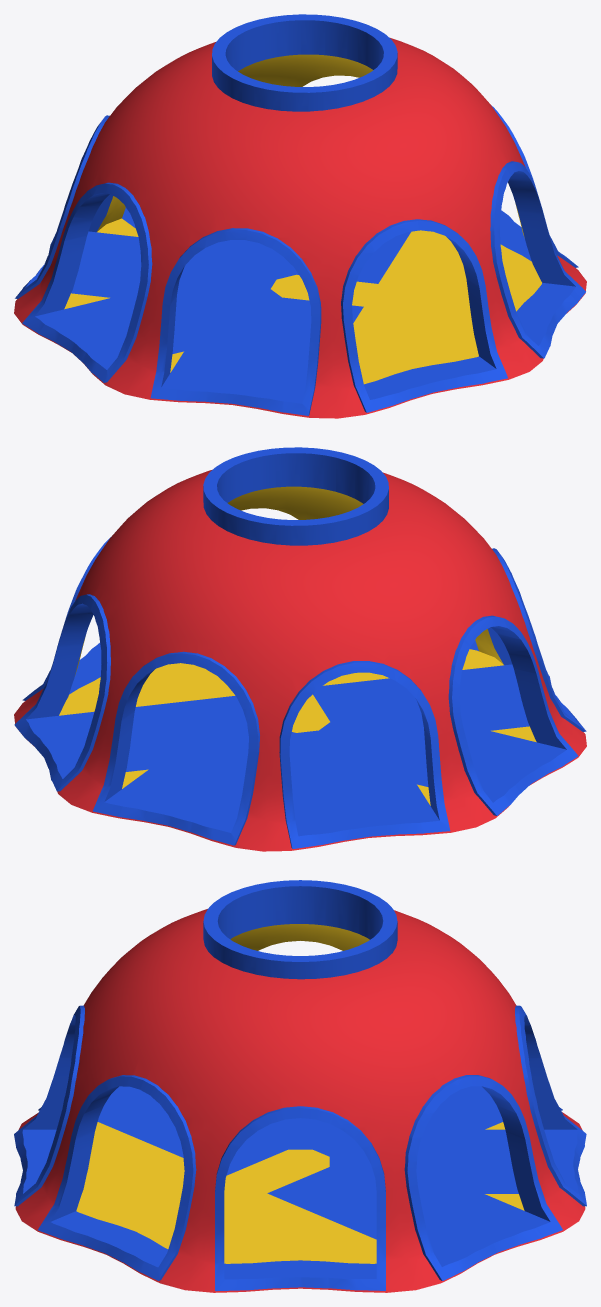
The model's file is adobe_07_open_pavilion.glb.
3 views of the same model, one above another, from view 1: azimuth 30°, elevation 25°; view 2: azimuth 150°, elevation 25°; view 3: azimuth 270°, elevation 25° (orthographic). The views are drawn at different scales.
Visible parts, largest first — view 1: 07 • Eight-Arch Adobe Pavilion; view 2: 07 • Eight-Arch Adobe Pavilion; view 3: 07 • Eight-Arch Adobe Pavilion.
Boxes of the visible parts, <box> form: 07 • Eight-Arch Adobe Pavilion: <box>14,14,586,418</box>; 07 • Eight-Arch Adobe Pavilion: <box>14,447,586,851</box>; 07 • Eight-Arch Adobe Pavilion: <box>14,880,586,1292</box>.
Bounding box in the file's own units: 8.86 × 4.33 × 8.86.
